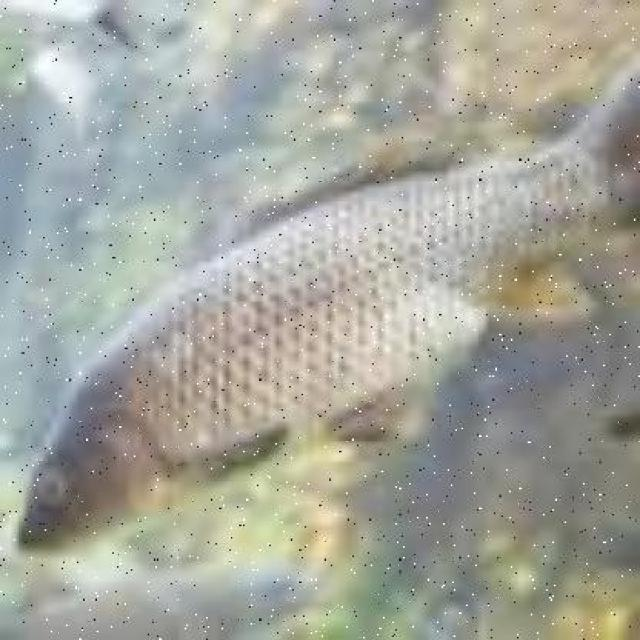ikan-mas: (9, 51, 640, 558)
